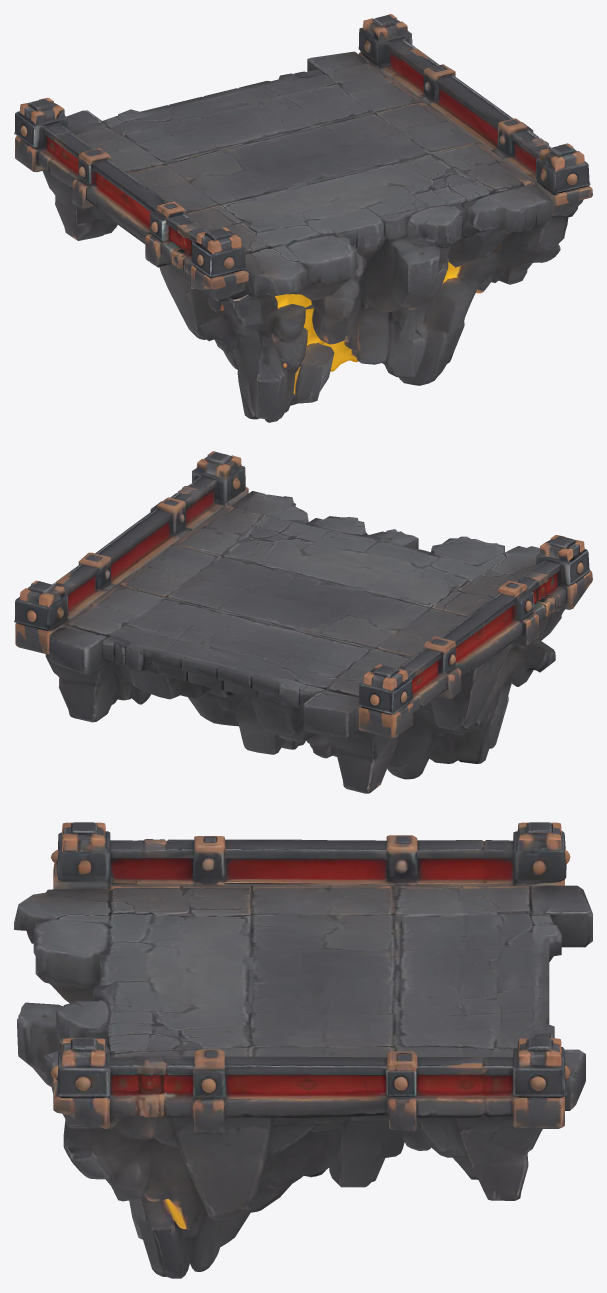
File: SM_Tripo_InfernoCausewayBreak.glb
3 renders of one model, top to bottom at view 1: azimuth 30°, elevation 25°; view 2: azimuth 150°, elevation 25°; view 3: azimuth 270°, elevation 25°, orthographic. The views are drawn at different scales.
Parts seen in each view (by area): view 1: SM_Tripo_InfernoCausewayBreak_LOD0; view 2: SM_Tripo_InfernoCausewayBreak_LOD0; view 3: SM_Tripo_InfernoCausewayBreak_LOD0.
Part boxes in pixels (x1=…): SM_Tripo_InfernoCausewayBreak_LOD0: x1=14, y1=14, x2=592, y2=422; SM_Tripo_InfernoCausewayBreak_LOD0: x1=14, y1=451, x2=592, y2=793; SM_Tripo_InfernoCausewayBreak_LOD0: x1=14, y1=822, x2=592, y2=1278.
Size of the model in its own units: 8.7 by 5 by 8.77.
Materials: 1 (1 with a texture image).
